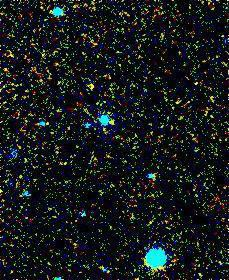star: (91, 111, 121, 141)
